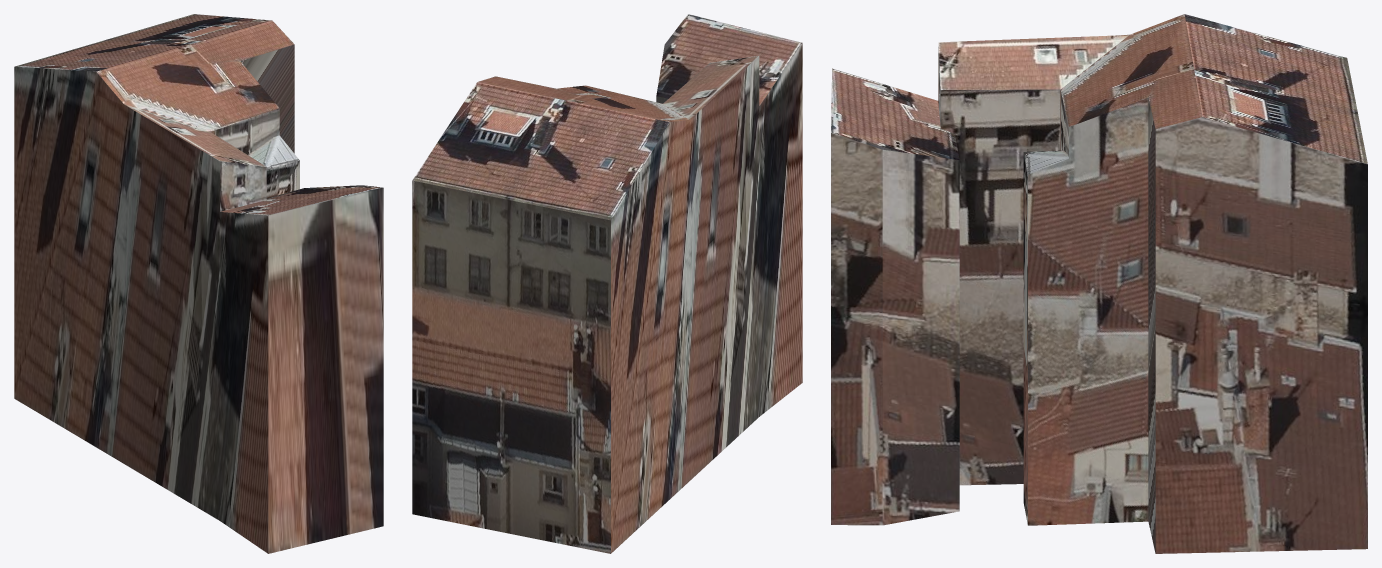
3 renders of one model, left to right at view 1: azimuth 30°, elevation 25°; view 2: azimuth 150°, elevation 25°; view 3: azimuth 270°, elevation 25°, orthographic. The views are drawn at different scales.
Parts seen in each view (by area): view 1: Z_UP; view 2: Z_UP; view 3: Z_UP.
Boxes of the visible parts, bbox=[...] form: Z_UP: bbox=[14, 14, 383, 553]; Z_UP: bbox=[412, 14, 802, 553]; Z_UP: bbox=[831, 14, 1367, 553].
Bounding box in the file's own units: 12.04 × 21.94 × 24.5.
2 materials, 1 textured.
